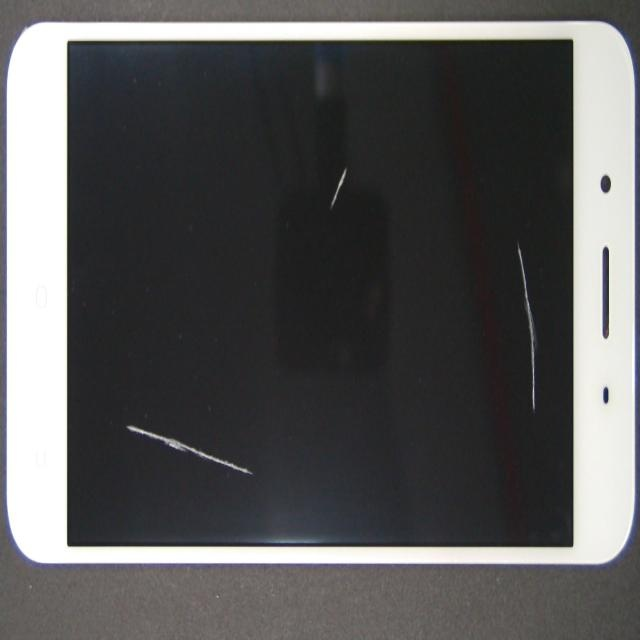scratch: (297, 274, 640, 493), (182, 60, 505, 256), (201, 256, 322, 640)
